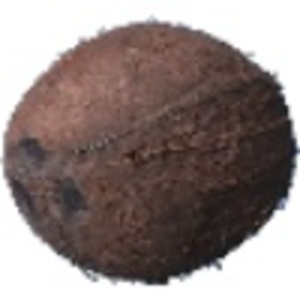coco: (3, 18, 300, 285)
